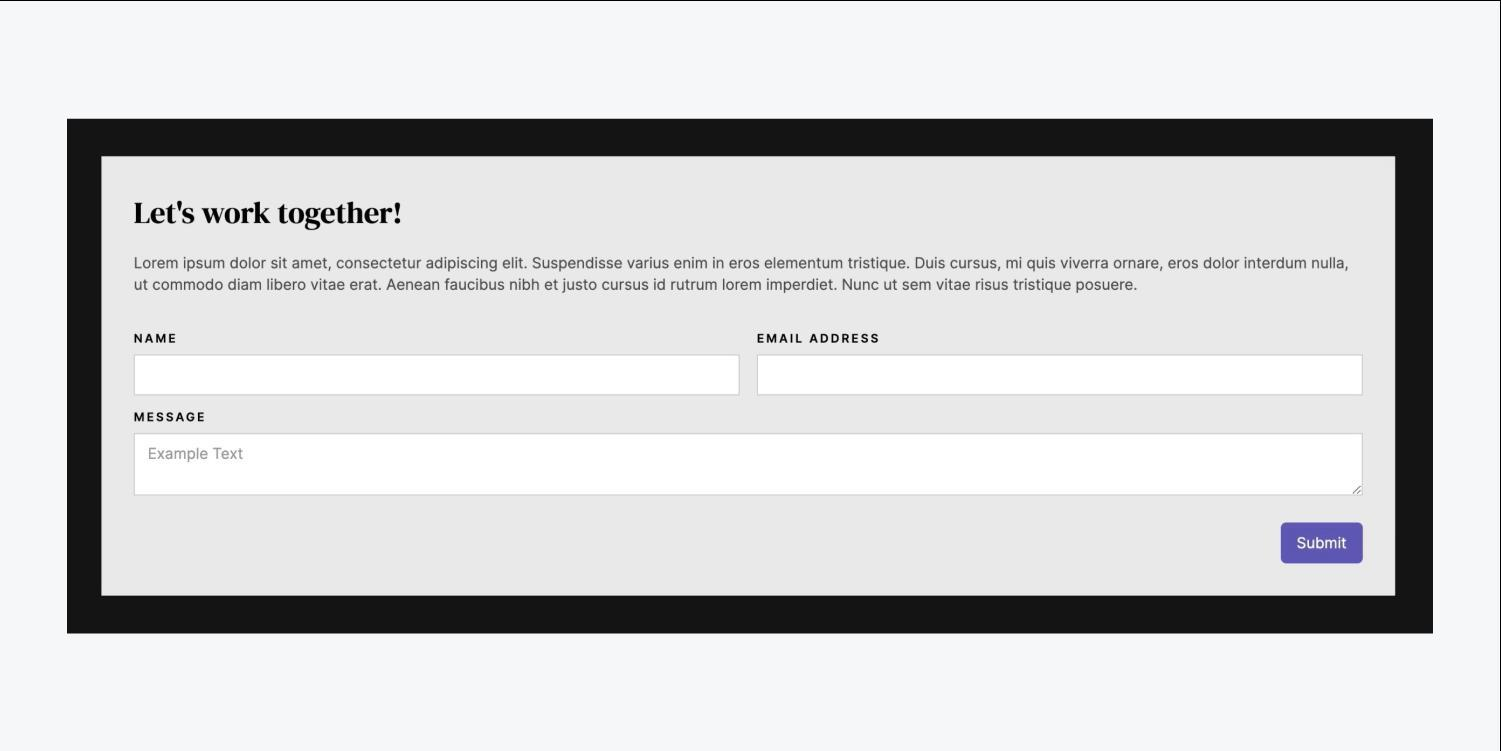button: (1282, 522, 1365, 564)
input: (135, 435, 1365, 498), (135, 356, 739, 397), (759, 356, 1365, 396)
label: (129, 193, 410, 240), (757, 329, 883, 350), (132, 405, 213, 423), (131, 327, 185, 351)
